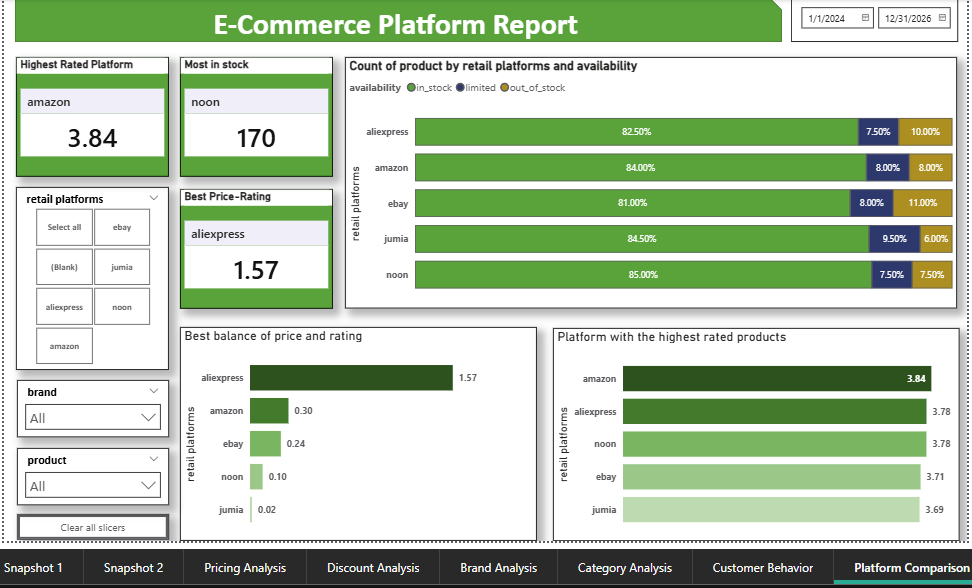

Layout of this report page (visuals, bound fields, positions):
{"tool":"powerbi","page":{"name":"Platform Comparison","canvas":[1280,720],"ordinal":7},"visuals":[{"type":"shape","box":[14.3,0,1018.9,57.1],"z":0},{"type":"slicer","fields":{"Values":["ecommerce_dataset.retail platforms"]},"box":[16.4,249.4,203.2,243.5],"z":1000},{"type":"actionButton","box":[17.9,684.1,201.7,34.4],"z":2000},{"type":"clusteredBarChart","title":"Platform with the highest rated products","fields":{"Category":["ecommerce_dataset.retail platforms"],"Y":["Avg(ecommerce_dataset.rating_score)"]},"box":[728.8,436.8,539.6,282.6],"z":3000},{"type":"slicer","fields":{"Values":["ecommerce_dataset.brand"]},"box":[17.9,506.4,201.7,76.2],"z":4000},{"type":"clusteredBarChart","title":"Best balance of price and rating","fields":{"Category":["ecommerce_dataset.retail platforms"],"Y":["ecommerce_dataset.Balance Score"]},"box":[234.2,436.2,473.7,284.2],"z":5000},{"type":"hundredPercentStackedBarChart","fields":{"Category":["ecommerce_dataset.retail platforms"],"Series":["ecommerce_dataset.availability"],"Y":["CountNonNull(ecommerce_dataset.product)"]},"box":[453.1,77.1,812.8,334],"z":6000},{"type":"cardVisual","title":"Best Price-Rating","fields":{"Data":["ecommerce_dataset.Balance Score"],"Rows":["ecommerce_dataset.retail platforms"]},"box":[233.6,252.3,203.2,158.8],"z":7000},{"type":"cardVisual","title":"Highest Rated Platform","fields":{"Data":["Avg(ecommerce_dataset.rating_score)"],"Rows":["ecommerce_dataset.retail platforms"]},"box":[16.4,77.1,203.2,158.8],"z":8000},{"type":"cardVisual","title":"Most in stock","fields":{"Rows":["ecommerce_dataset.retail platforms"],"Data":["CountNonNull(ecommerce_dataset.availability)"]},"box":[233.6,77.1,203.2,158.8],"z":9000},{"type":"slicer","fields":{"Values":["ecommerce_dataset.product"]},"box":[17.9,596,201.7,76.2],"z":10000},{"type":"slicer","fields":{"Values":["Date Table.Date"]},"box":[1045.8,0,221.7,57.2],"z":11000}]}

Visuals, with their boxes in screenshot pixels (x1, y1, x2, y2):
shape: (x1=13, y1=0, x2=776, y2=40)
slicer - ecommerce_dataset.retail platforms: (x1=15, y1=184, x2=167, y2=367)
actionButton: (x1=16, y1=510, x2=167, y2=536)
"Platform with the highest rated products" clusteredBarChart: (x1=548, y1=325, x2=952, y2=536)
slicer - ecommerce_dataset.brand: (x1=16, y1=377, x2=167, y2=434)
"Best balance of price and rating" clusteredBarChart: (x1=178, y1=324, x2=533, y2=537)
hundredPercentStackedBarChart - ecommerce_dataset.retail platforms x ecommerce_dataset.availability: (x1=342, y1=55, x2=951, y2=305)
"Best Price-Rating" cardVisual: (x1=177, y1=186, x2=330, y2=305)
"Highest Rated Platform" cardVisual: (x1=15, y1=55, x2=167, y2=174)
"Most in stock" cardVisual: (x1=177, y1=55, x2=330, y2=174)
slicer - ecommerce_dataset.product: (x1=16, y1=444, x2=167, y2=501)
slicer - Date Table.Date: (x1=786, y1=0, x2=952, y2=40)
